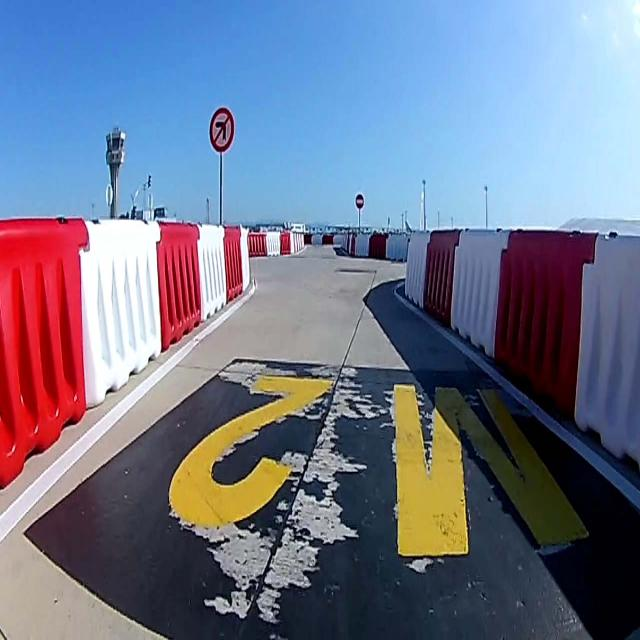girisyok: (355, 192, 365, 209)
soladonulmez: (209, 105, 234, 152)
